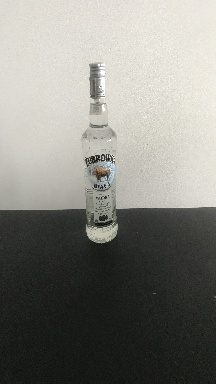butelka: (79, 58, 119, 246)
